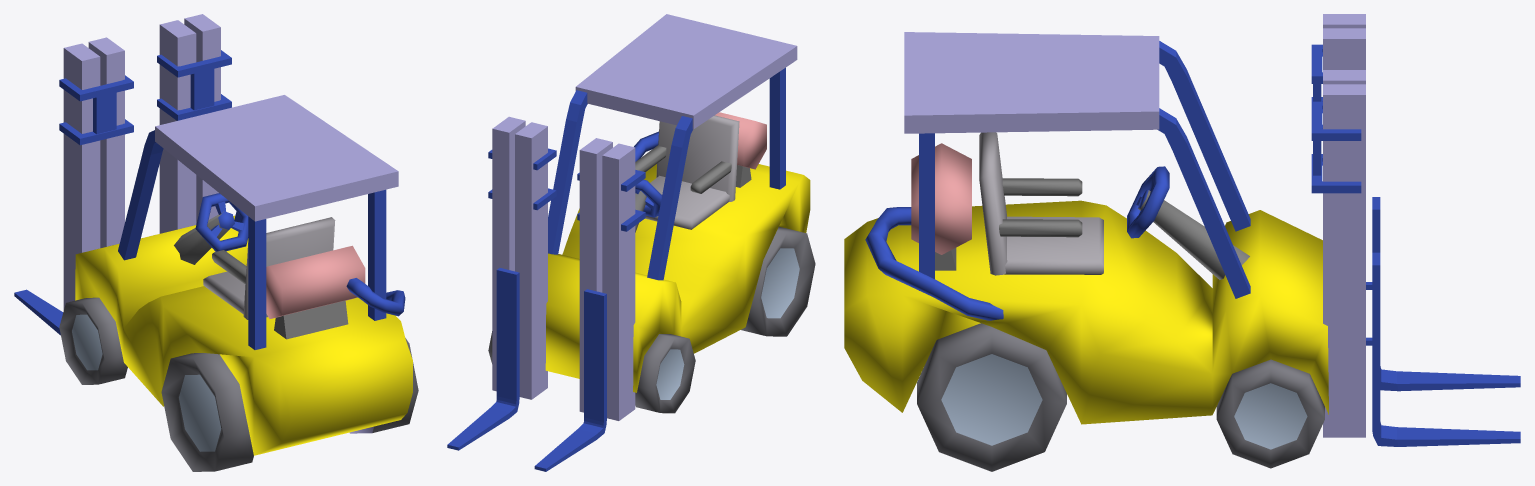
File: Empilhadeira.fbx
3 views of the same model, side by side, from view 1: azimuth 30°, elevation 25°; view 2: azimuth 150°, elevation 25°; view 3: azimuth 270°, elevation 25° (orthographic). The views are drawn at different scales.
Parts seen in each view (by area): view 1: Cube.002; view 2: Cube.002; view 3: Cube.002.
Boxes of the visible parts, x1=… form: Cube.002: x1=14, y1=14, x2=418, y2=471; Cube.002: x1=447, y1=14, x2=815, y2=471; Cube.002: x1=844, y1=14, x2=1520, y2=471.
Bounding box in the file's own units: 270 × 401 × 681.
